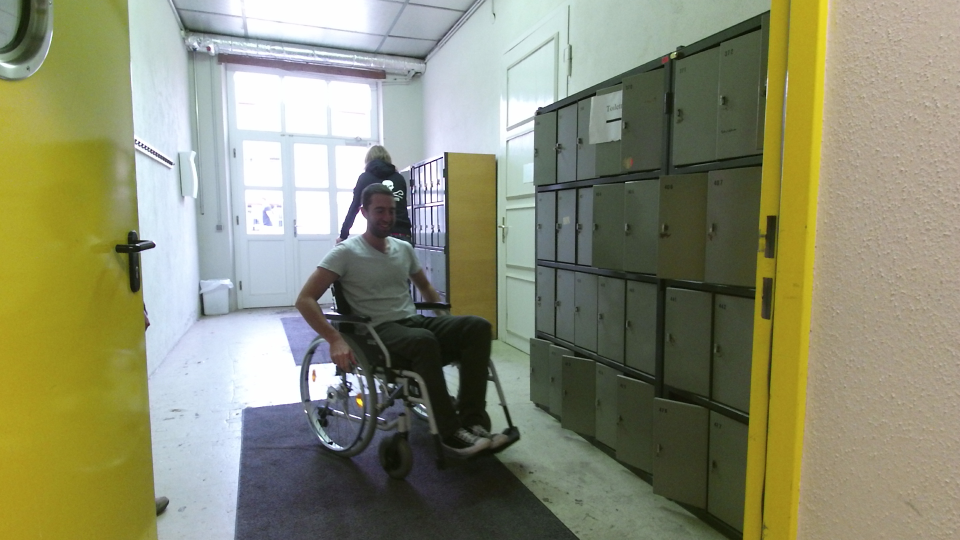wheelchair: (291, 180, 526, 483)
